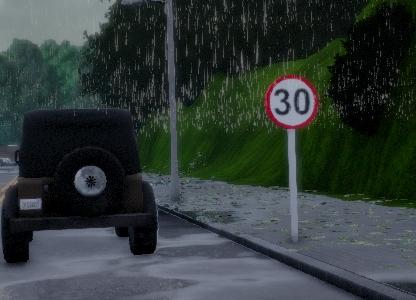Speed_30: (260, 71, 318, 130)
